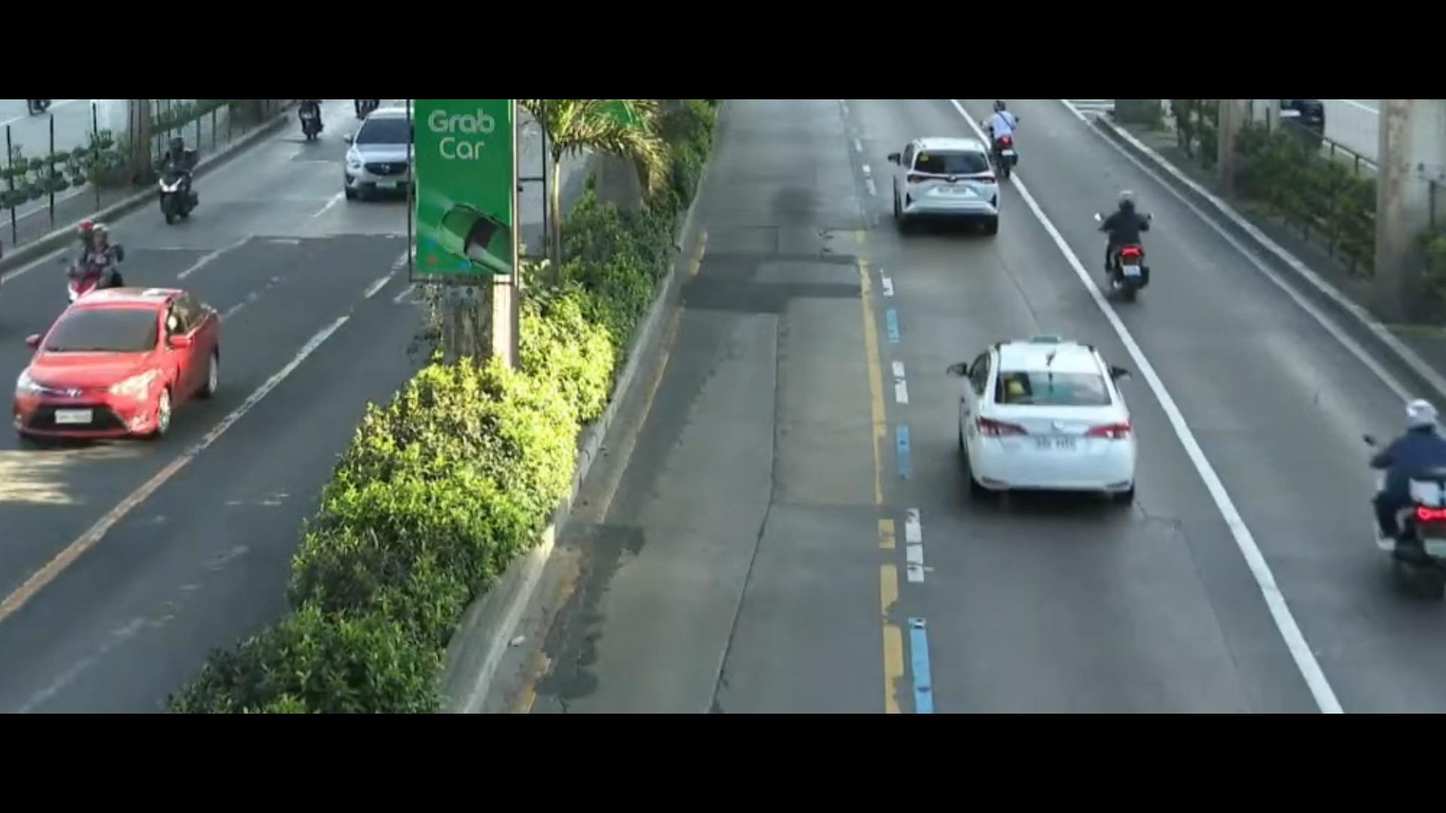Motorcycle: (1369, 382, 1446, 605), (1074, 177, 1187, 310), (151, 125, 212, 229), (65, 207, 125, 304), (981, 98, 1029, 179), (292, 102, 336, 143)
SUV: (326, 104, 438, 198)
Sedan: (937, 303, 1157, 546), (0, 273, 232, 465), (872, 121, 1018, 251)
